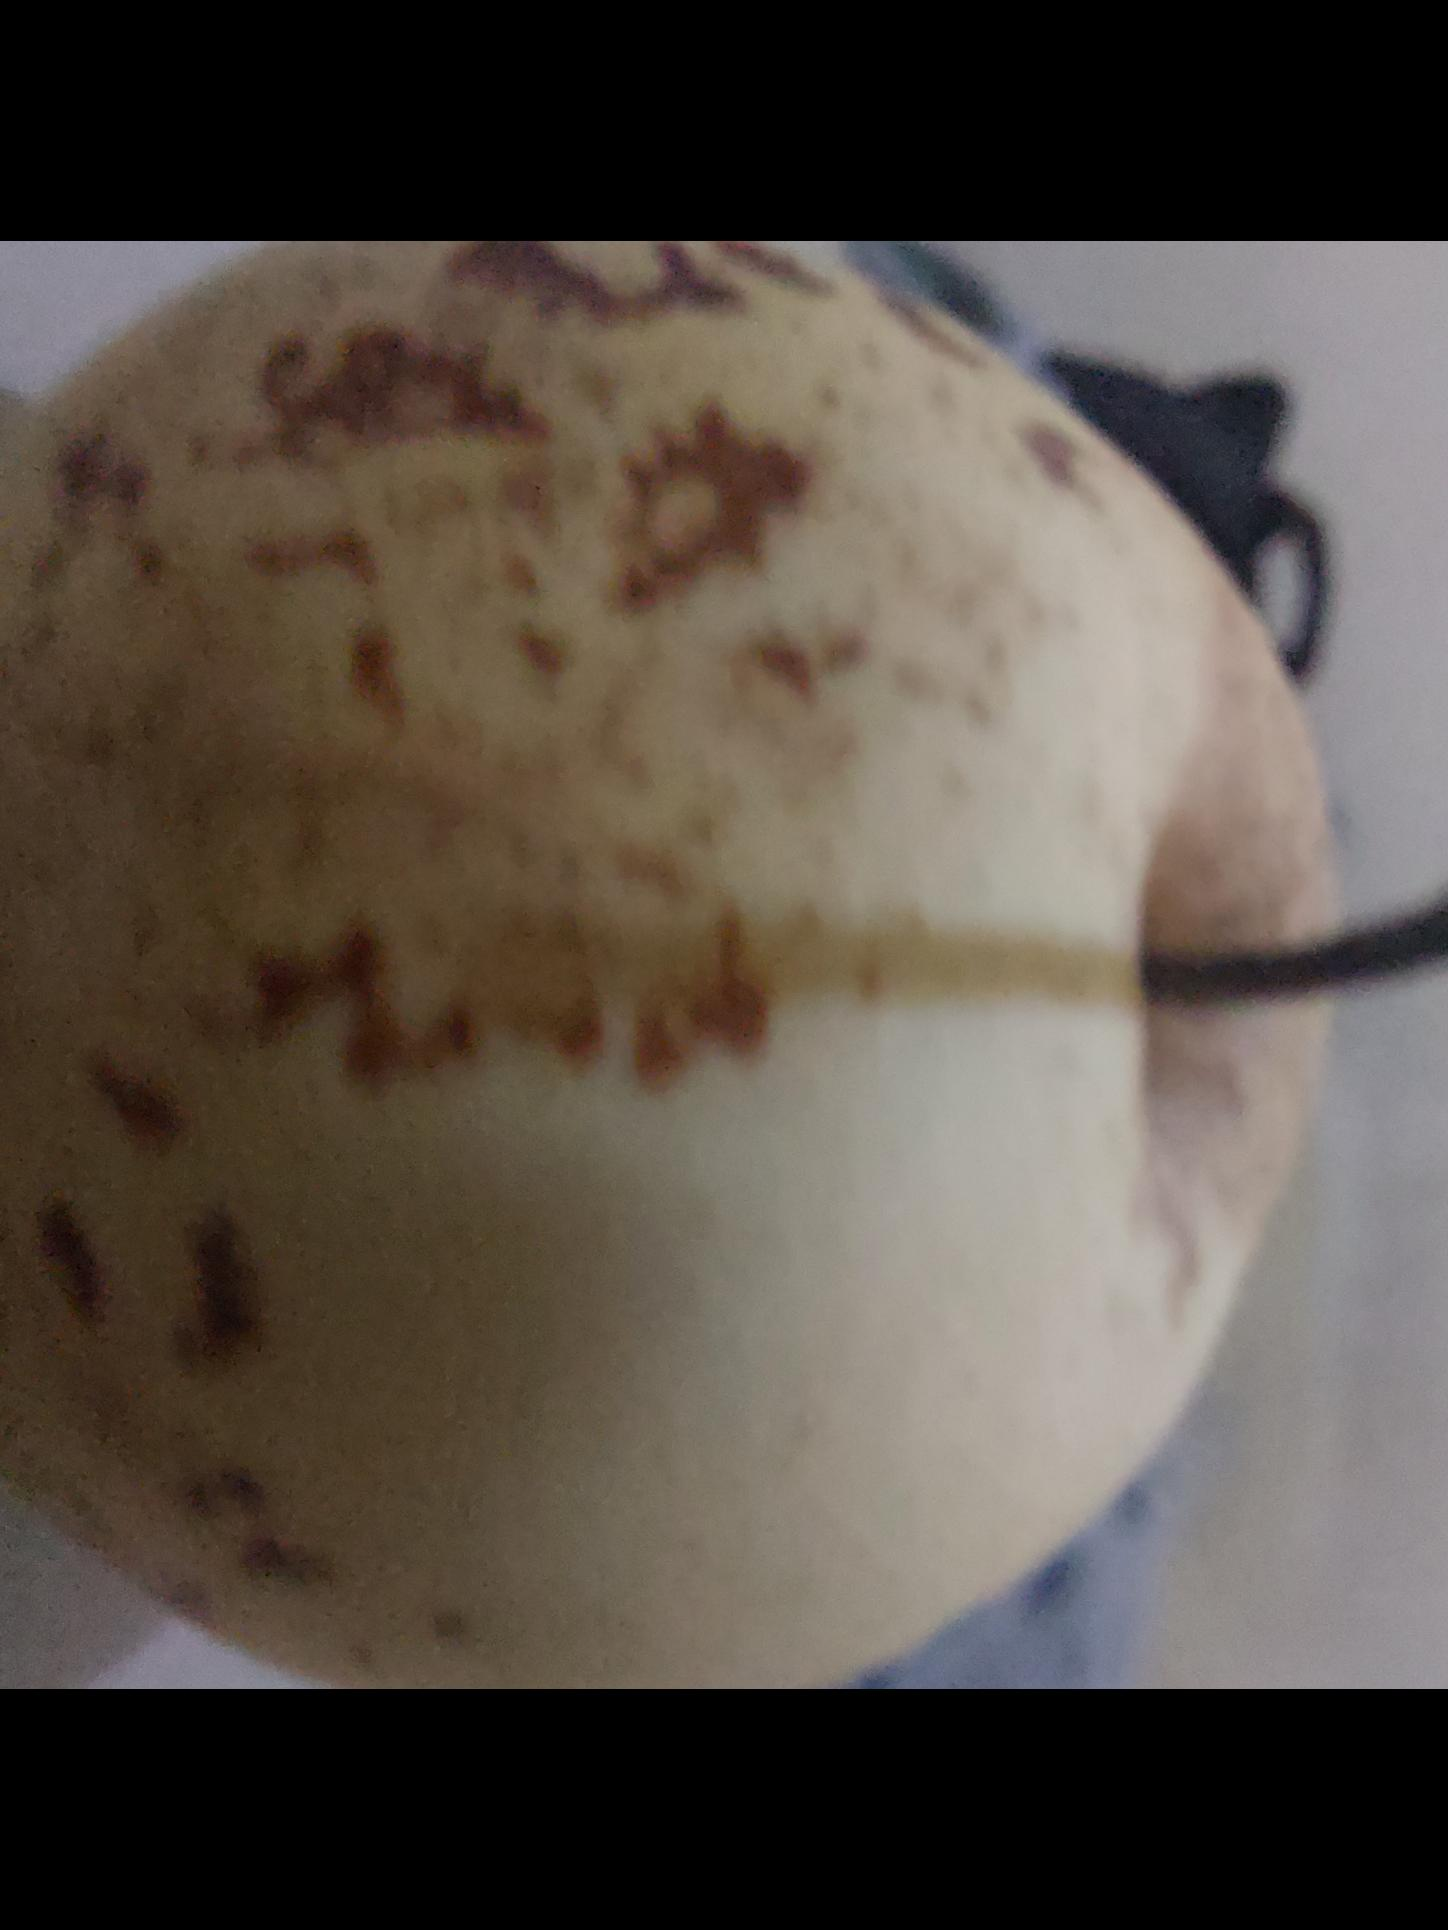Bad Pear: (0, 240, 1361, 1690)
